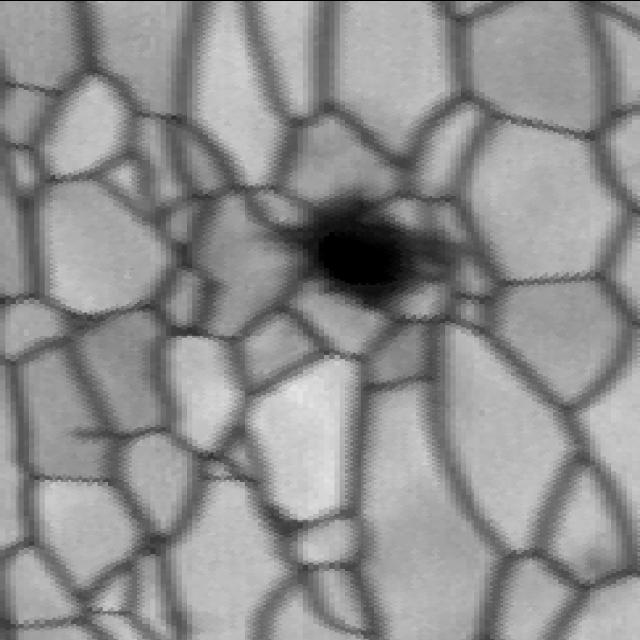good_void: (257, 182, 469, 322)
